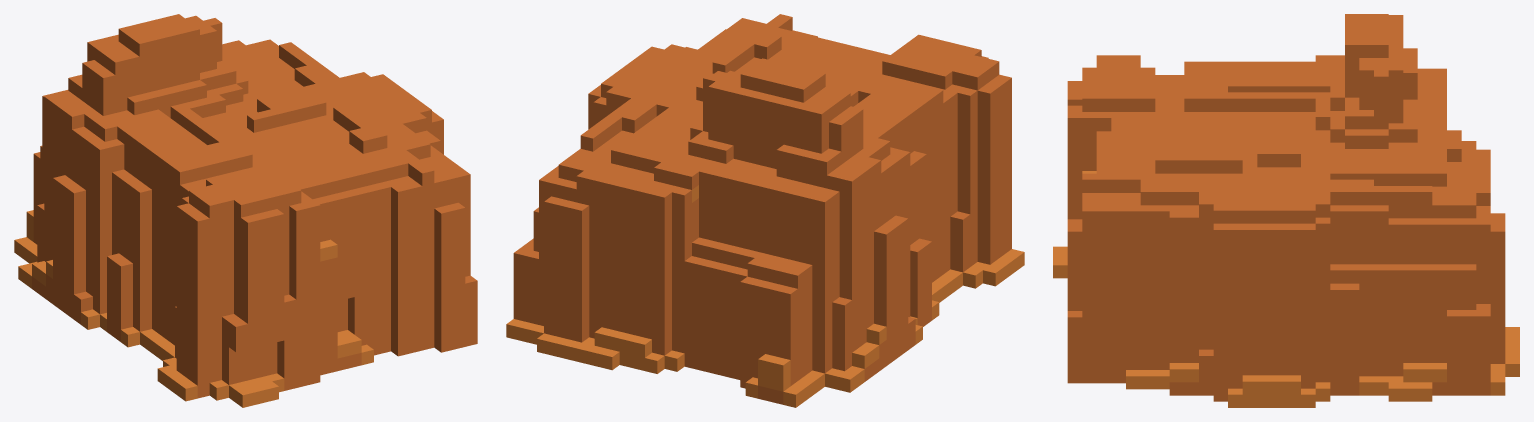
File: Elm_4.obj
3 views of the same model, side by side, from view 1: azimuth 30°, elevation 25°; view 2: azimuth 150°, elevation 25°; view 3: azimuth 270°, elevation 25° (orthographic). The views are drawn at different scales.
Size of the model in its own units: 27 by 20 by 32.
1 material, 1 textured.
